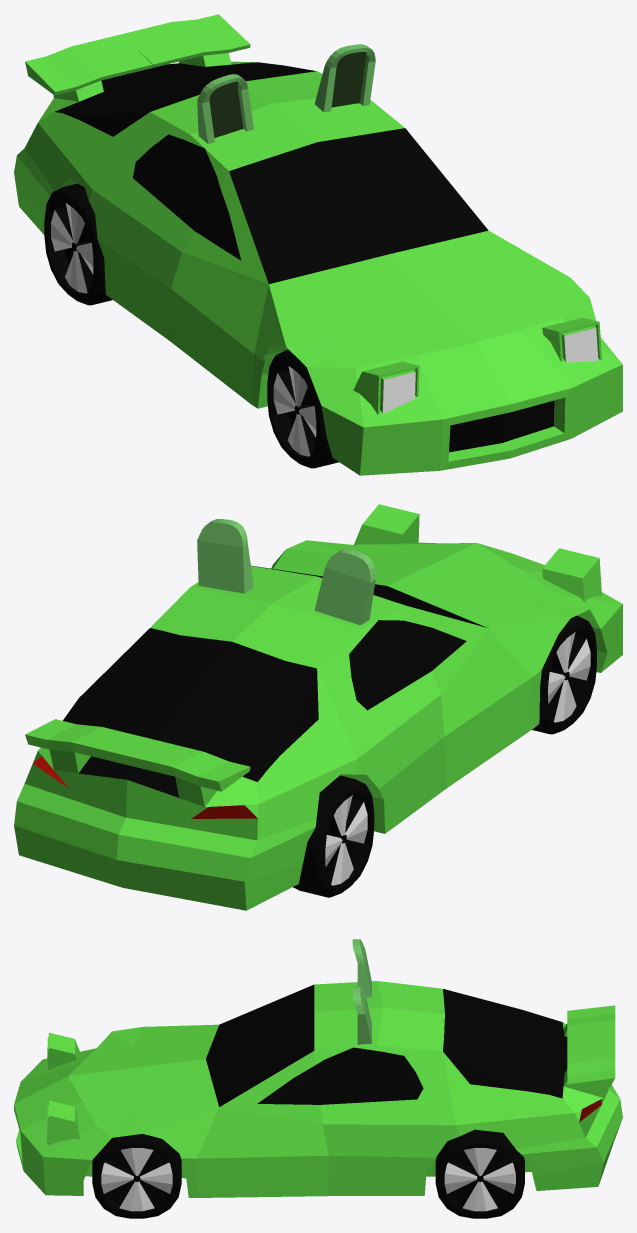
The model's file is Car.fbx.
3 views of the same model, one above another, from view 1: azimuth 30°, elevation 25°; view 2: azimuth 150°, elevation 25°; view 3: azimuth 270°, elevation 25° (orthographic). The views are drawn at different scales.
Parts seen in each view (by area): view 1: Куб, Куб.013, Куб.005, Куб.004, Куб.001; view 2: Куб, Куб.013, Куб.005, Куб.004, Куб.001; view 3: Куб, Куб.003, Куб.002, Куб.001, Куб.013.
Part boxes in pixels (x1=…): Куб: x1=14, y1=14, x2=622, y2=475; Куб.013: x1=197, y1=44, x2=375, y2=143; Куб.005: x1=44, y1=183, x2=112, y2=305; Куб.004: x1=267, y1=349, x2=338, y2=468; Куб.001: x1=353, y1=317, x2=601, y2=414; Куб: x1=14, y1=540, x2=622, y2=910; Куб.013: x1=197, y1=519, x2=375, y2=625; Куб.005: x1=293, y1=775, x2=374, y2=897; Куб.004: x1=532, y1=615, x2=596, y2=734; Куб.001: x1=354, y1=504, x2=601, y2=602; Куб: x1=14, y1=981, x2=622, y2=1197; Куб.003: x1=435, y1=1129, x2=524, y2=1218; Куб.002: x1=92, y1=1134, x2=181, y2=1218; Куб.001: x1=47, y1=1032, x2=79, y2=1145; Куб.013: x1=352, y1=939, x2=371, y2=1044.
Size of the model in its own units: 138 by 121 by 330.
